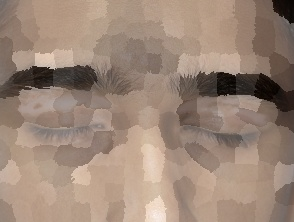vitiligo: (170, 83, 294, 160), (10, 79, 111, 152)
